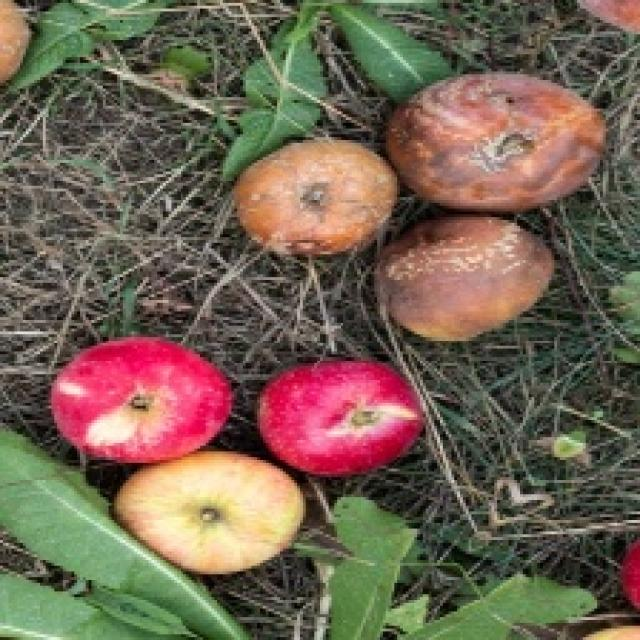100-_ripeness: (46, 329, 233, 453), (128, 472, 304, 573), (264, 360, 424, 468)
rotten_apple: (390, 72, 604, 200), (382, 218, 556, 340), (237, 140, 391, 246)
